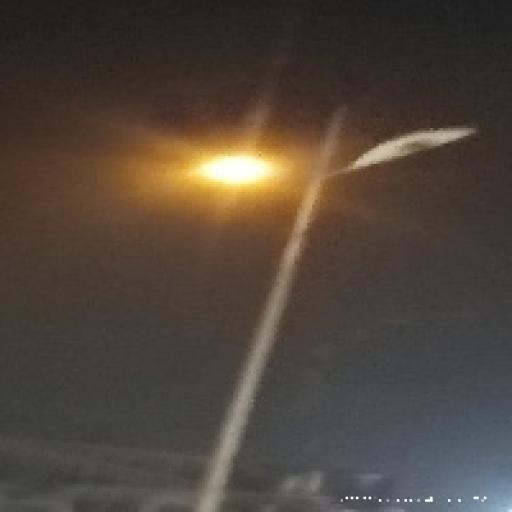Not Working: (338, 108, 484, 184)
Working: (192, 144, 281, 203)
